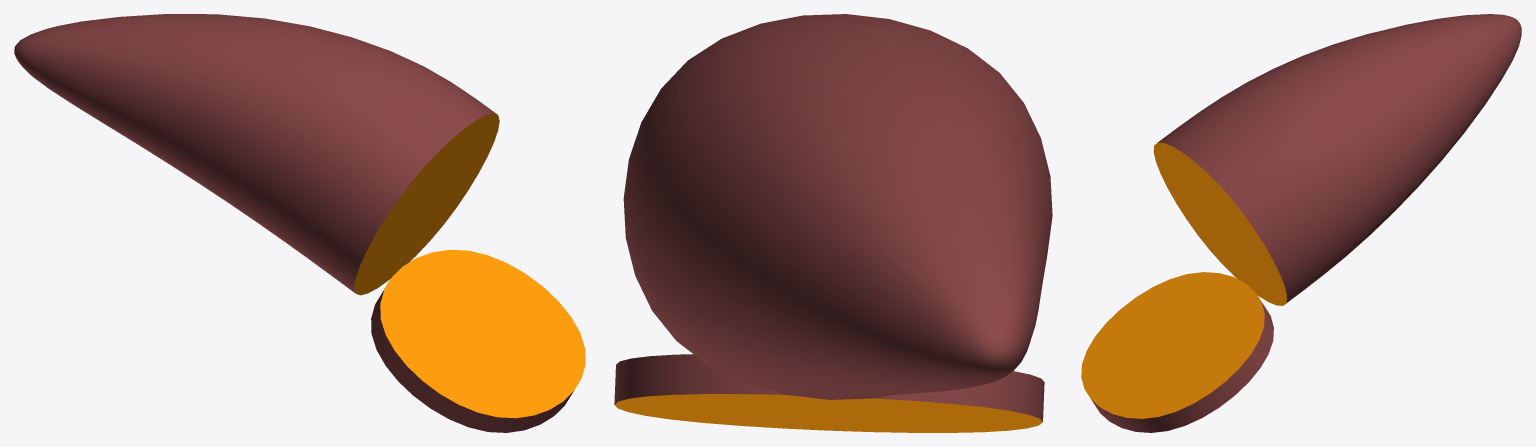
File: roasted_sweet_potato.glb
The picture shows the model from 3 angles, left to right: view 1: azimuth 30°, elevation 25°; view 2: azimuth 150°, elevation 25°; view 3: azimuth 270°, elevation 25°; orthographic projection. The views are drawn at different scales.
Parts seen in each view (by area): view 1: Cube.424; view 2: Cube.424; view 3: Cube.424.
Part boxes in pixels (<box>): Cube.424: <box>14,14,585,432</box>; Cube.424: <box>614,14,1052,432</box>; Cube.424: <box>1081,14,1521,432</box>.
Size of the model in its own units: 2.39 by 1.94 by 2.6.
1 material, 1 textured.
